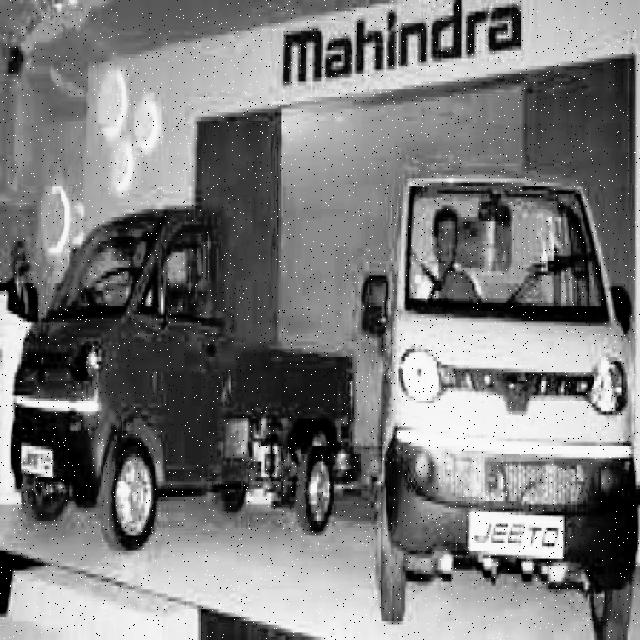LCV: (18, 224, 327, 550), (376, 198, 630, 582)
